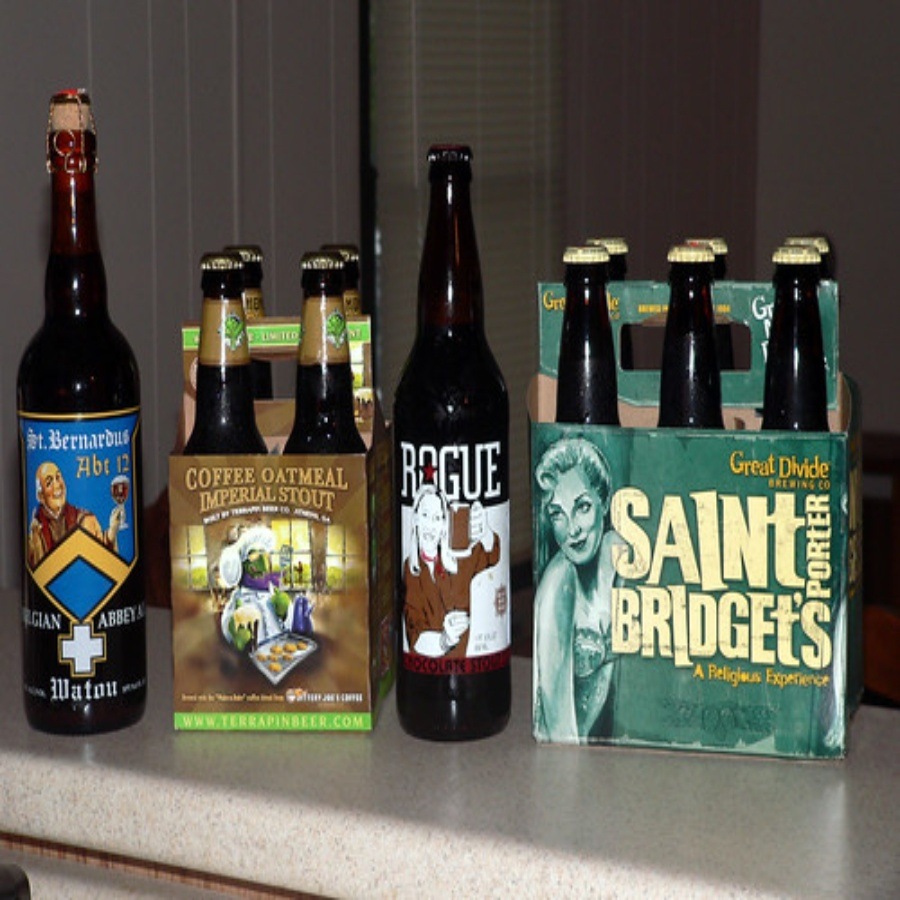beer: (374, 150, 517, 724), (26, 99, 148, 728)
